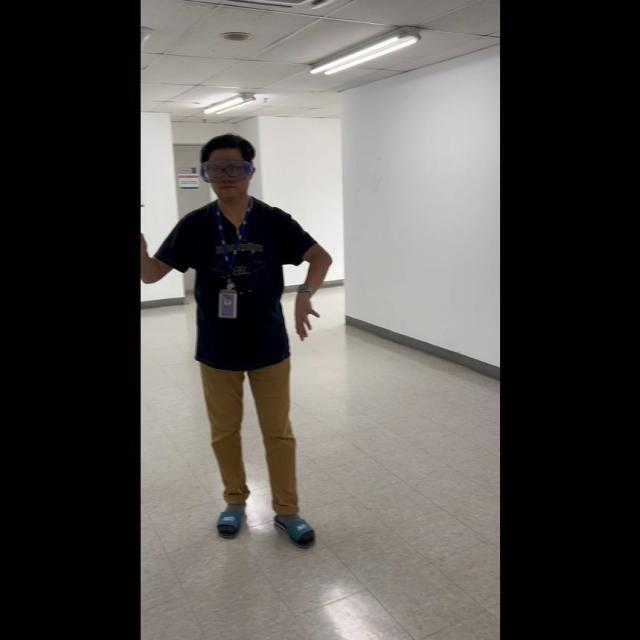bare_hand: (289, 288, 319, 342), (138, 225, 150, 260)
